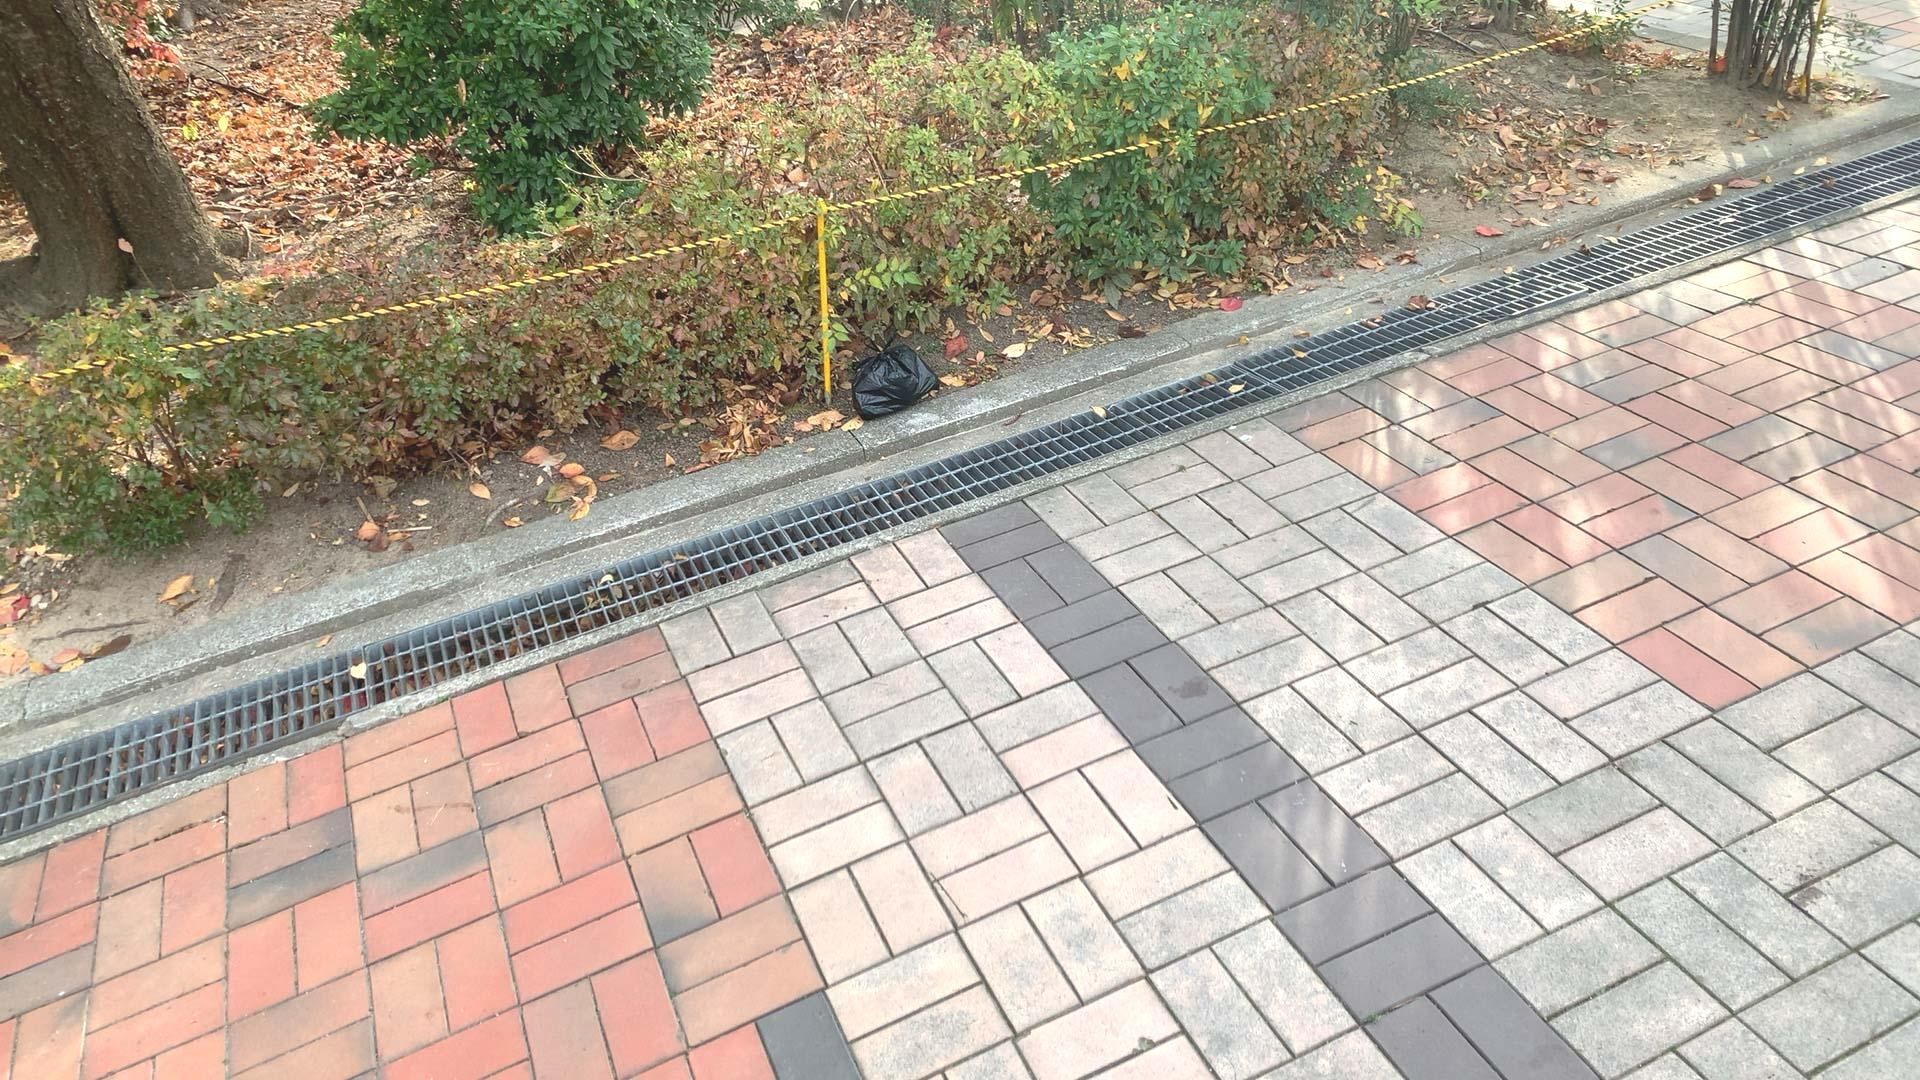black_bag: (847, 328, 945, 419)
